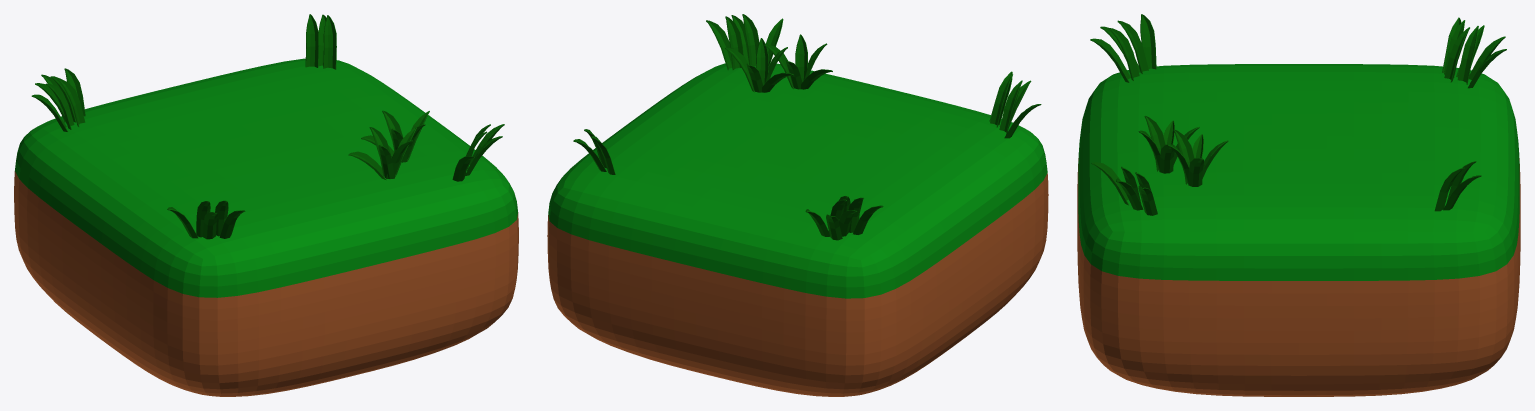
Rendered from platformVide1.fbx.
3 renders of one model, left to right at view 1: azimuth 30°, elevation 25°; view 2: azimuth 150°, elevation 25°; view 3: azimuth 270°, elevation 25°, orthographic. The views are drawn at different scales.
Parts seen in each view (by area): view 1: herbe.002; view 2: herbe.002; view 3: herbe.002.
Boxes of the visible parts, x1,y1,x2,y2 form: herbe.002: (14,14,518,396); herbe.002: (547,14,1048,396); herbe.002: (1077,14,1520,396).
Size of the model in its own units: 200 by 121 by 200.
